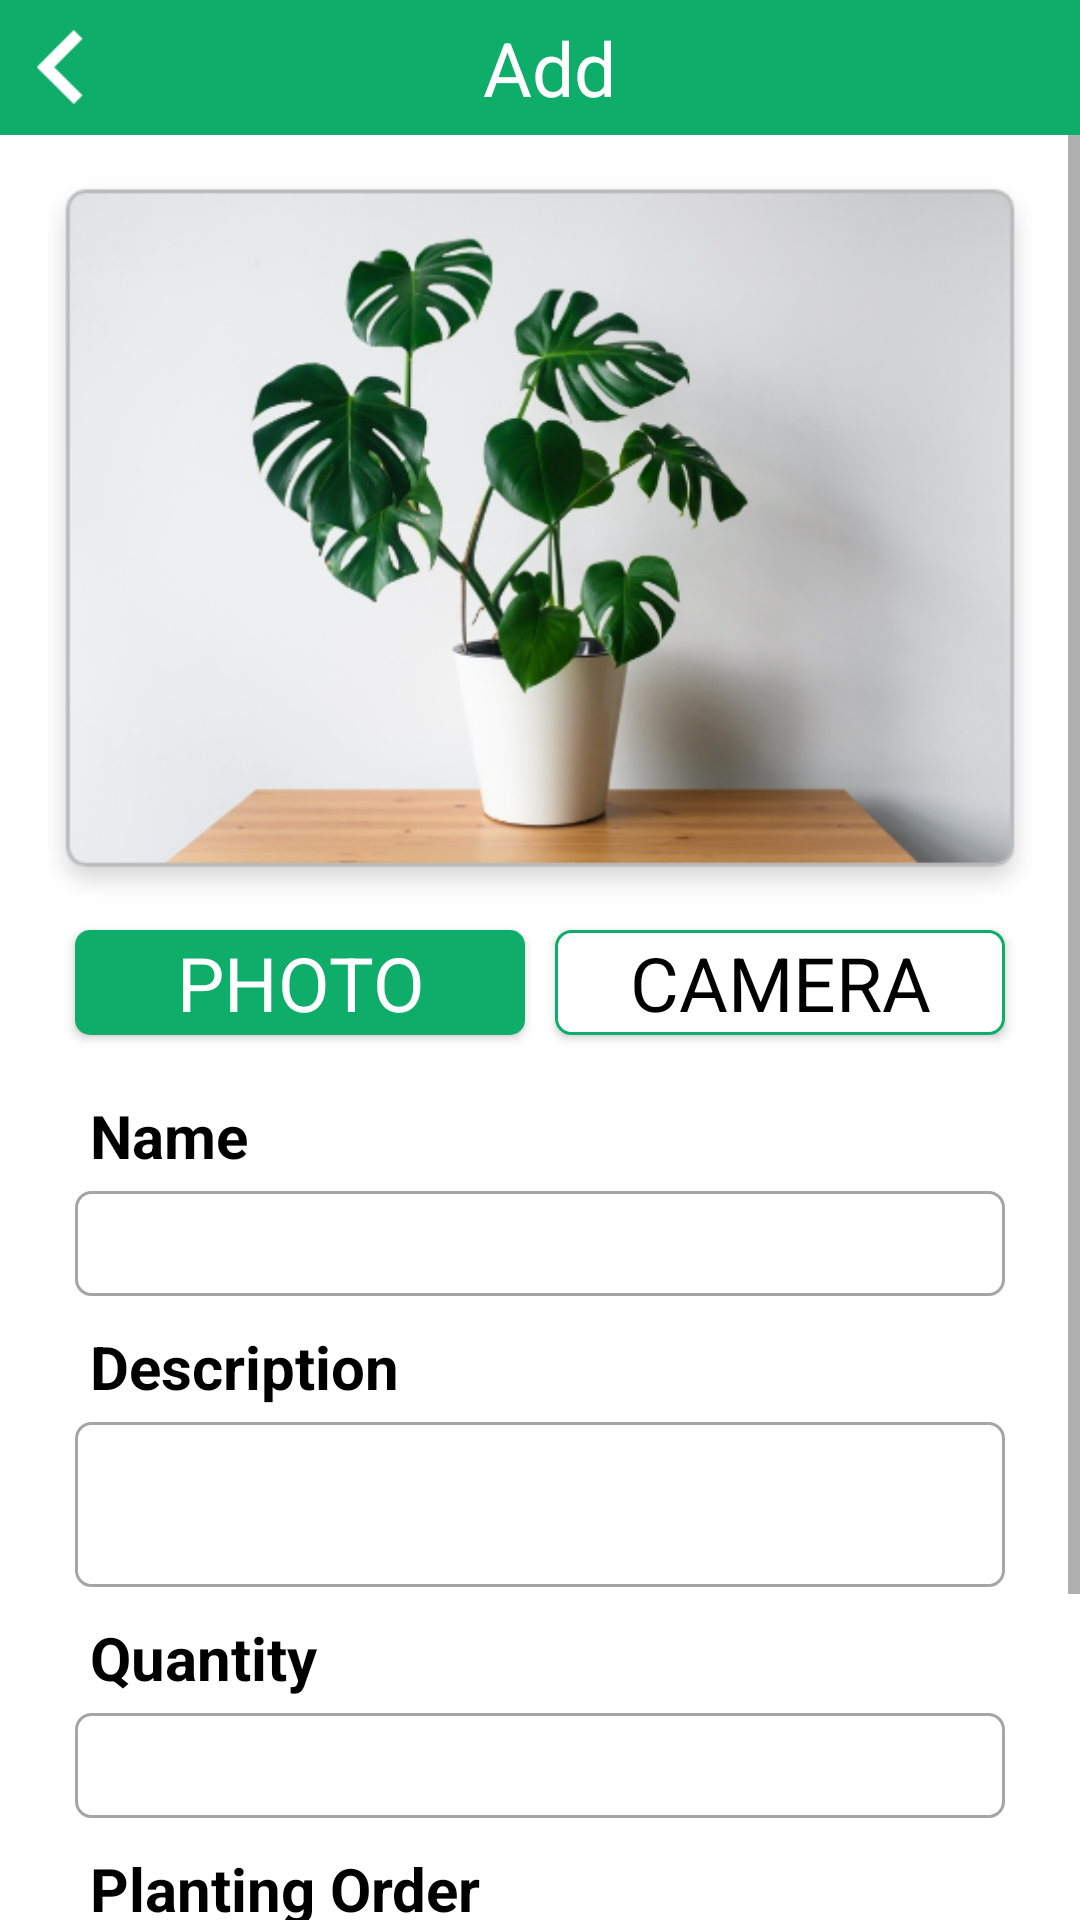

Screen size 1080px×1920px. Icon name, then its center in pixels as [x,y]:
icbtnback: [60,67]
